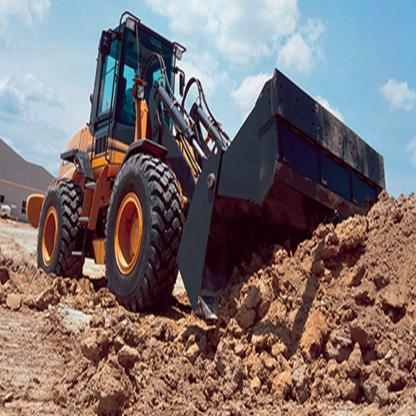bull_dozer/loader/grader: (30, 14, 392, 356)
